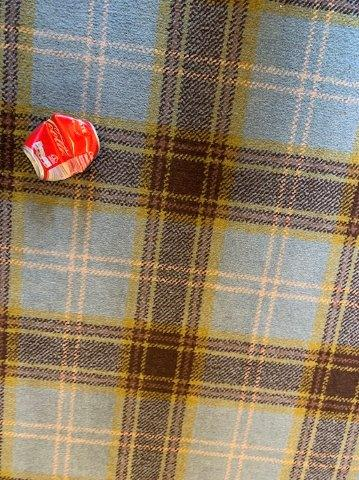kaleng: (23, 113, 100, 182)
